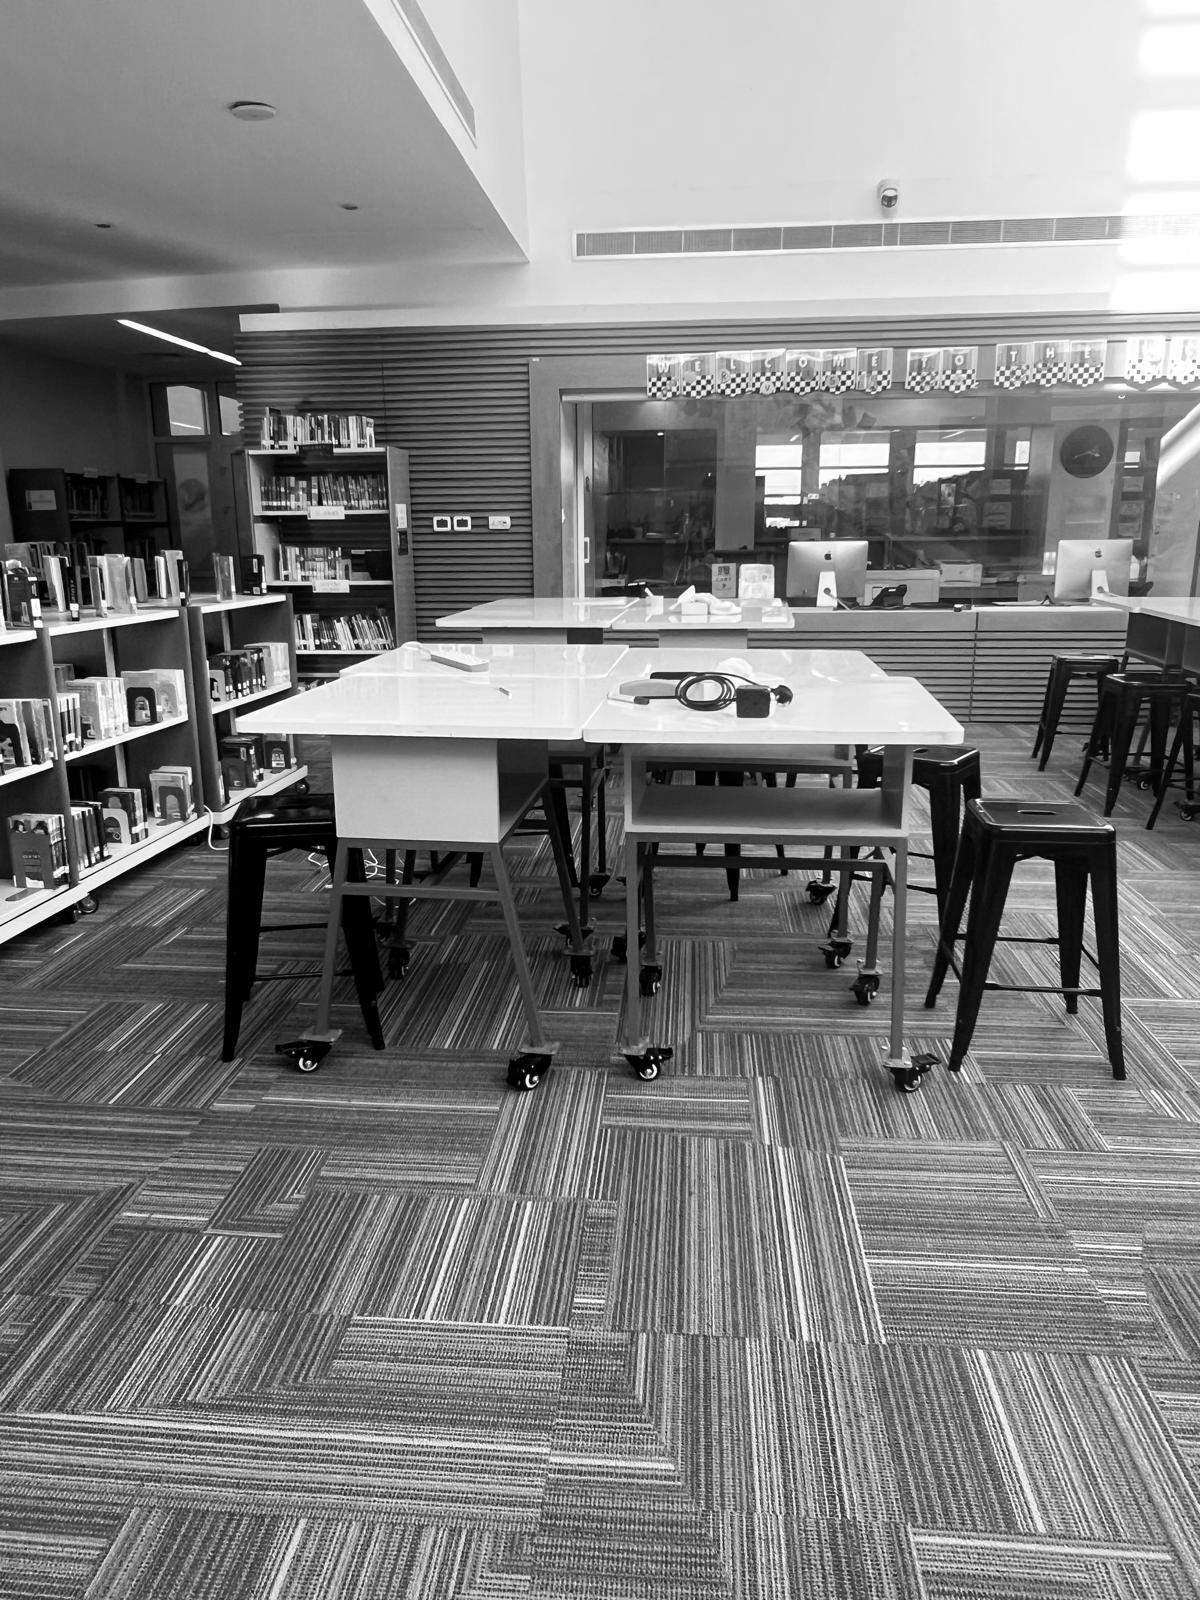Chair: (926, 797, 1123, 1078), (221, 790, 337, 1061), (1075, 670, 1184, 816), (913, 745, 979, 920), (1031, 654, 1117, 770), (343, 902, 382, 1047)
Table: (247, 646, 962, 1090), (435, 598, 793, 648)
Wall: (238, 310, 1199, 624), (274, 0, 1199, 325), (884, 619, 1121, 722)
